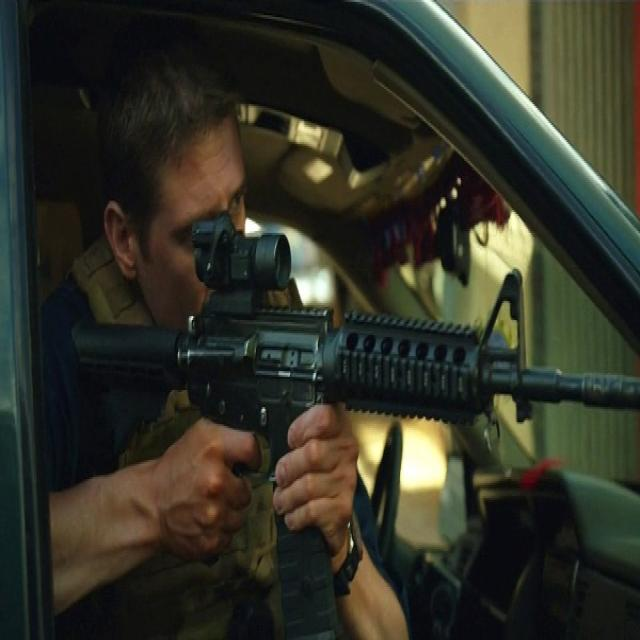rifle: (60, 209, 640, 639)
